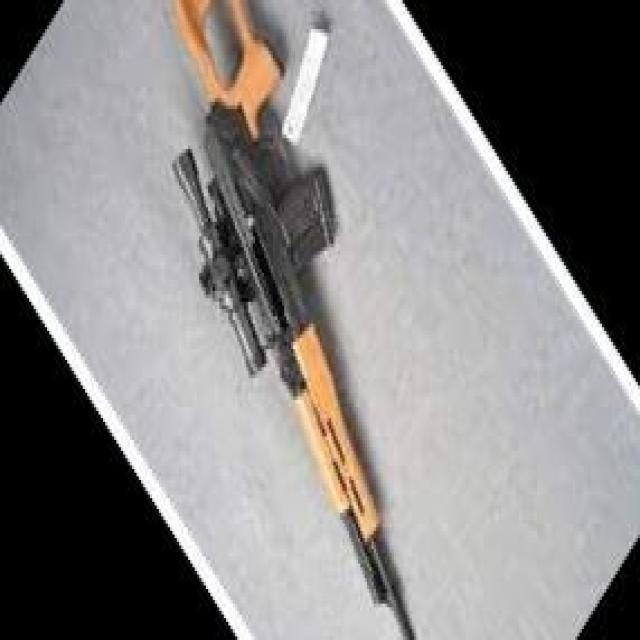Rifle: (166, 0, 418, 640)
